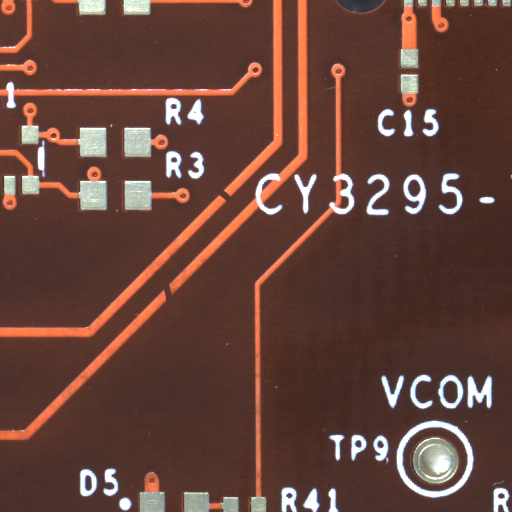Open_circuit: (225, 195, 244, 216), (168, 291, 178, 316)
